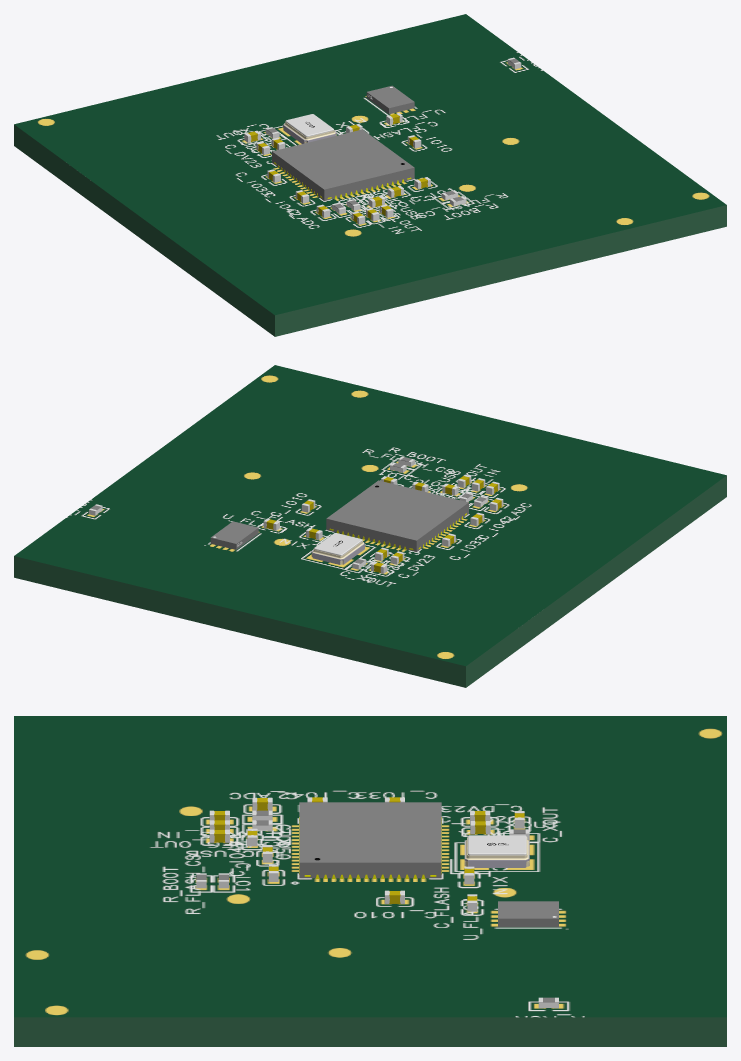
Rendered from development-core.glb.
3 renders of one model, top to bottom at view 1: azimuth 30°, elevation 25°; view 2: azimuth 150°, elevation 25°; view 3: azimuth 270°, elevation 25°, orthographic. The views are drawn at different scales.
Parts seen in each view (by area): view 1: Box0, U_MCU, Y_MCU, U_FLASH; view 2: Box0, U_MCU, Y_MCU, U_FLASH; view 3: Box0, U_MCU, Y_MCU, U_FLASH.
Boxes of the visible parts, x1,y1,x2,y2 form: Box0: (14,14,726,336); U_MCU: (272,129,414,200); Y_MCU: (283,114,336,143); U_FLASH: (366,85,414,114); Box0: (14,365,726,687); U_MCU: (326,480,468,551); Y_MCU: (311,533,364,564); U_FLASH: (210,521,258,549); Box0: (14,716,726,1046); U_MCU: (299,802,441,878); Y_MCU: (464,835,529,867); U_FLASH: (498,901,558,926).
Size of the model in its own units: 35 by 2.47 by 35.
Materials: 13 (2 with a texture image).
